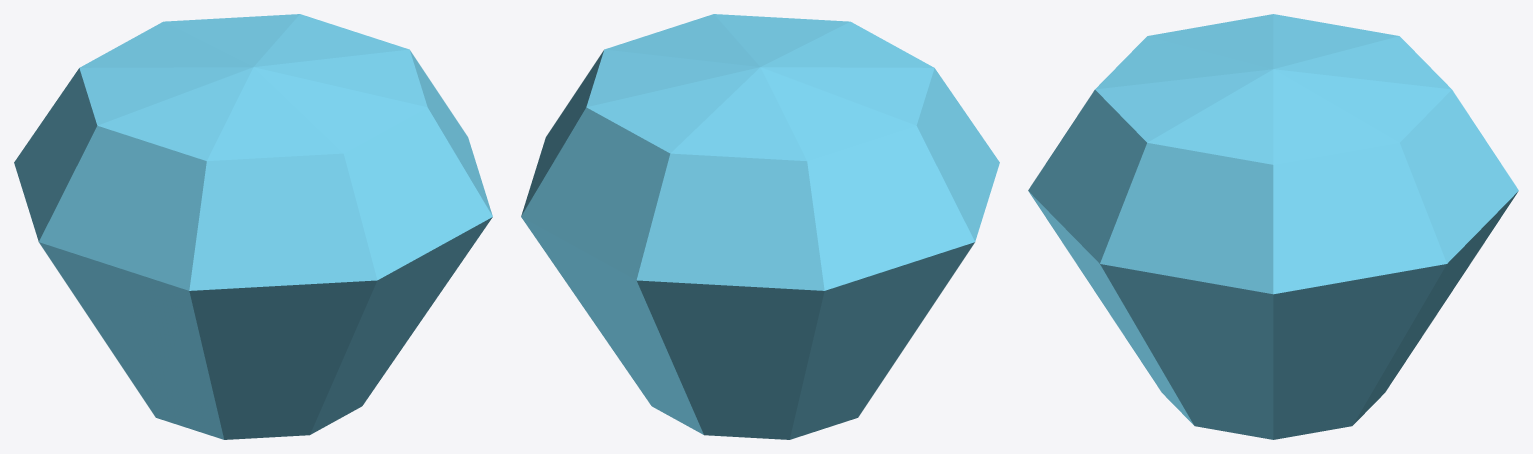
File: loot_jewel_diamond.glb
3 views of the same model, side by side, from view 1: azimuth 30°, elevation 25°; view 2: azimuth 150°, elevation 25°; view 3: azimuth 270°, elevation 25° (orthographic).
Parts seen in each view (by area): view 1: jewel; view 2: jewel; view 3: jewel.
Part boxes in pixels (x1=…): jewel: x1=14, y1=14, x2=492, y2=439; jewel: x1=521, y1=14, x2=999, y2=439; jewel: x1=1028, y1=14, x2=1518, y2=439.
Bounding box in the file's own units: 0.11 × 0.08 × 0.11.
1 material, 1 textured.
